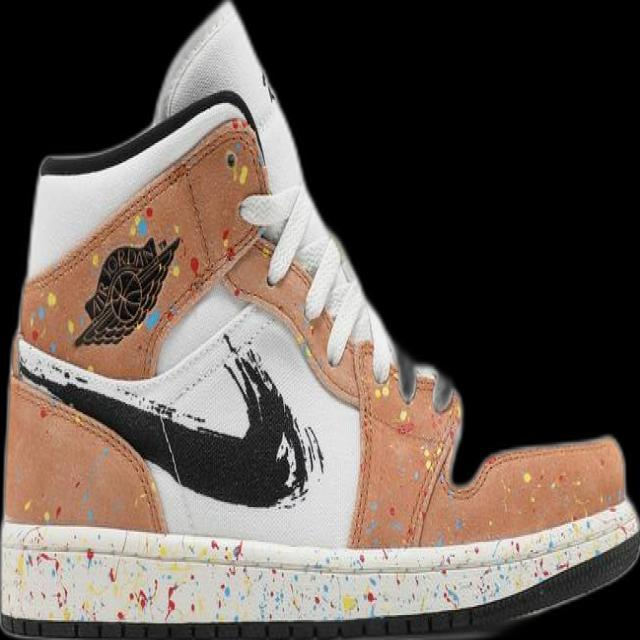J1_InsoleChar: (0, 0, 639, 639)
J1_ShoeLogo: (72, 234, 182, 348)
J1_StitchPattern: (1, 334, 637, 638), (14, 112, 458, 541), (1, 498, 638, 630), (21, 115, 272, 373), (12, 329, 326, 510), (235, 182, 397, 382), (346, 338, 463, 549), (217, 330, 327, 510), (12, 339, 210, 432)
